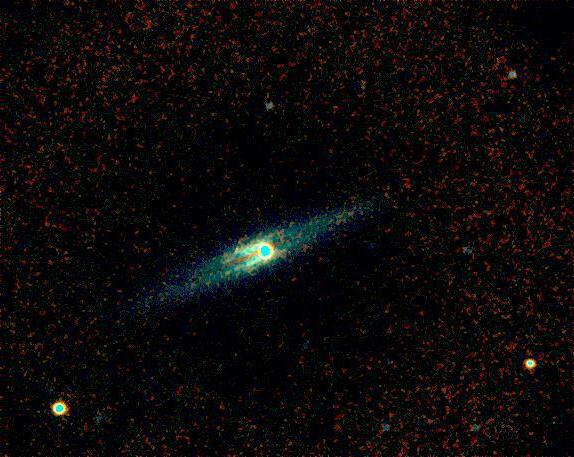star: (221, 233, 251, 263)
